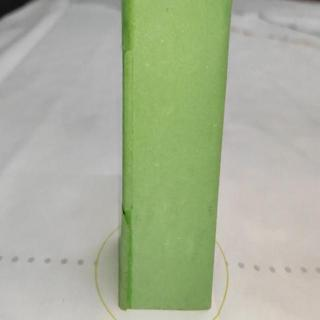greenbox: (117, 0, 238, 312)
